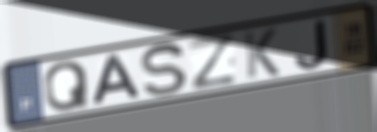A: (90, 51, 144, 108)
J: (292, 17, 330, 71)
K: (241, 26, 282, 81)
Q: (43, 60, 92, 114)
S: (139, 42, 189, 98)
Z: (186, 31, 239, 93)
